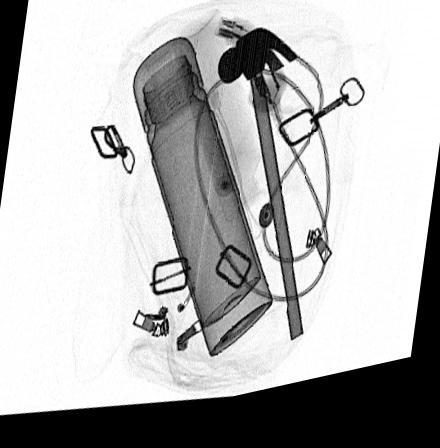Hammer: (218, 38, 304, 353)
